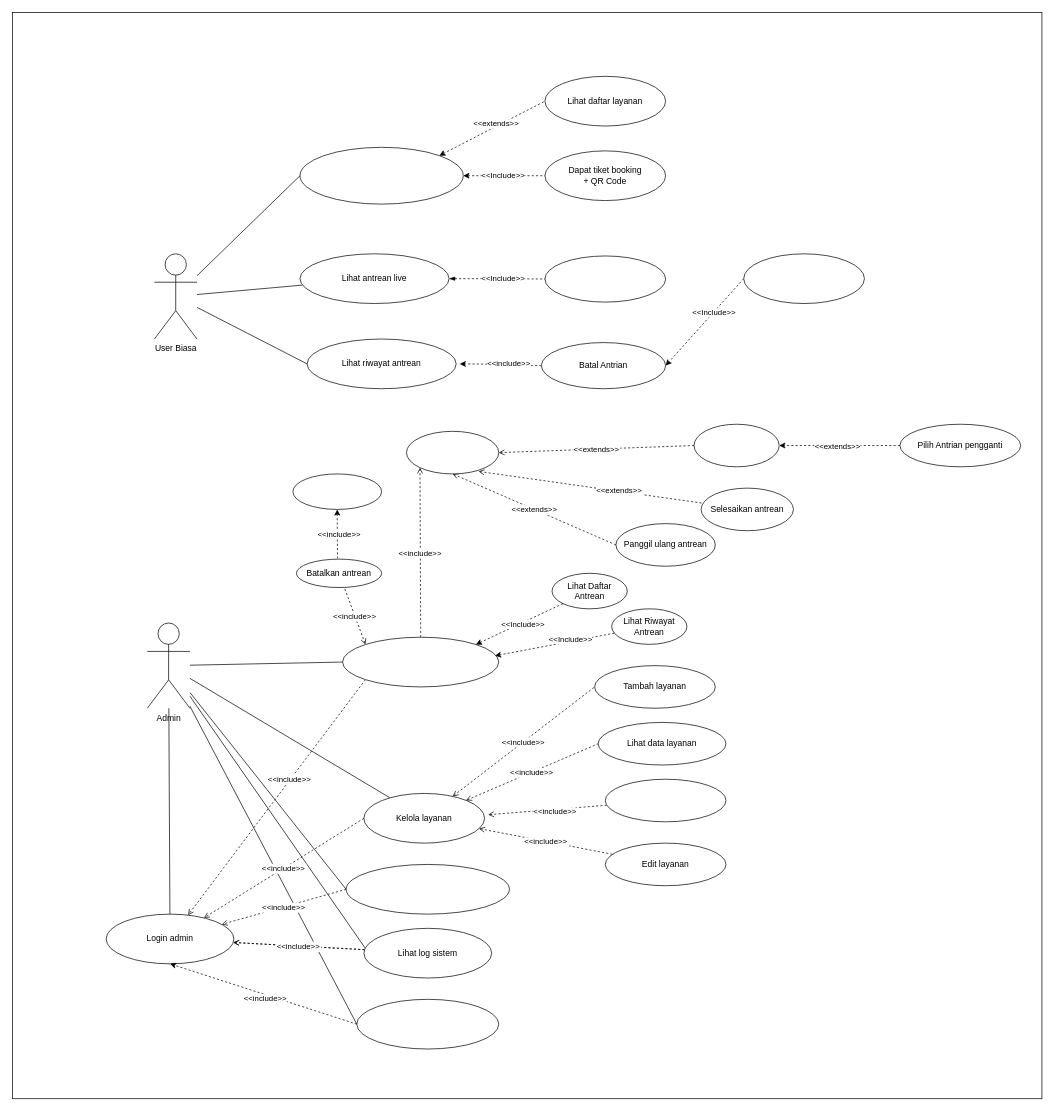
This 1054x1111 diagram has some shape labels left out. Here are the shapes that lost their labels. From the top down, the centre of each, then its label:
At (381,175): "Ambil nomor antrean".
At (605,278): "Aktifkan notifikasi browser + suara".
At (803,278): "Tulis alasan pembatalan".
At (452,452): "Panggil antrean".
At (736,445): "Skip antrean".
At (337,491): "Pilih alasan pembatalan".
At (420,662): "Kelola antrean harian".
At (665,800): "Hapus layanan".
At (427,889): "Lihat dashboard statistik".
At (427,1024): "Lihat Rekapan Antrian".
